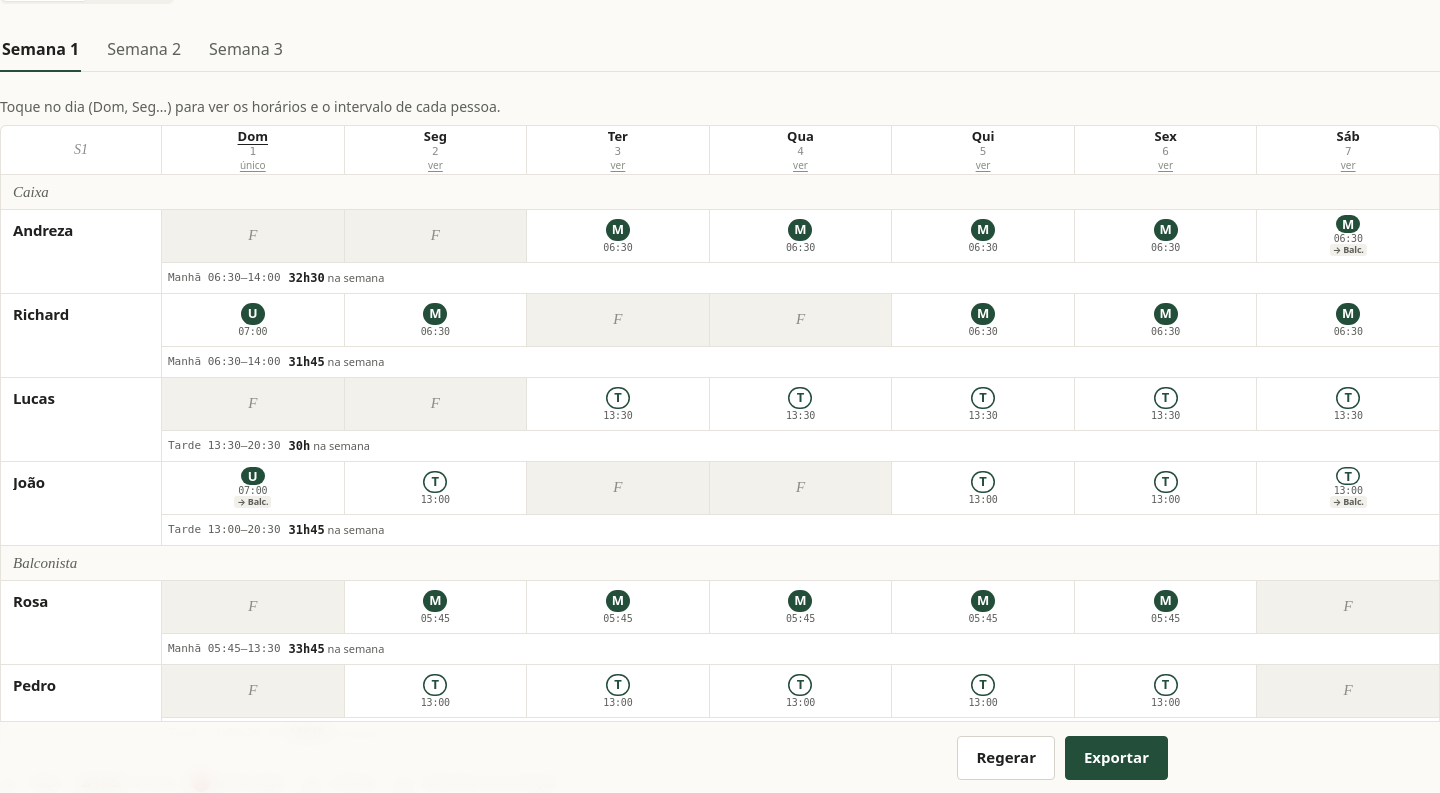
Test: segunda área na escala (dados reais do exemplo) › quem cobre balconista mostra "→ Balc." na célula, "cobrindo Balconista" no aria-label e "Neste dia cobre" no painel
(page scrolled)
Click the button "U 07:00 → Balc.": {"x": 253, "y": 488} [162,462,344,514]
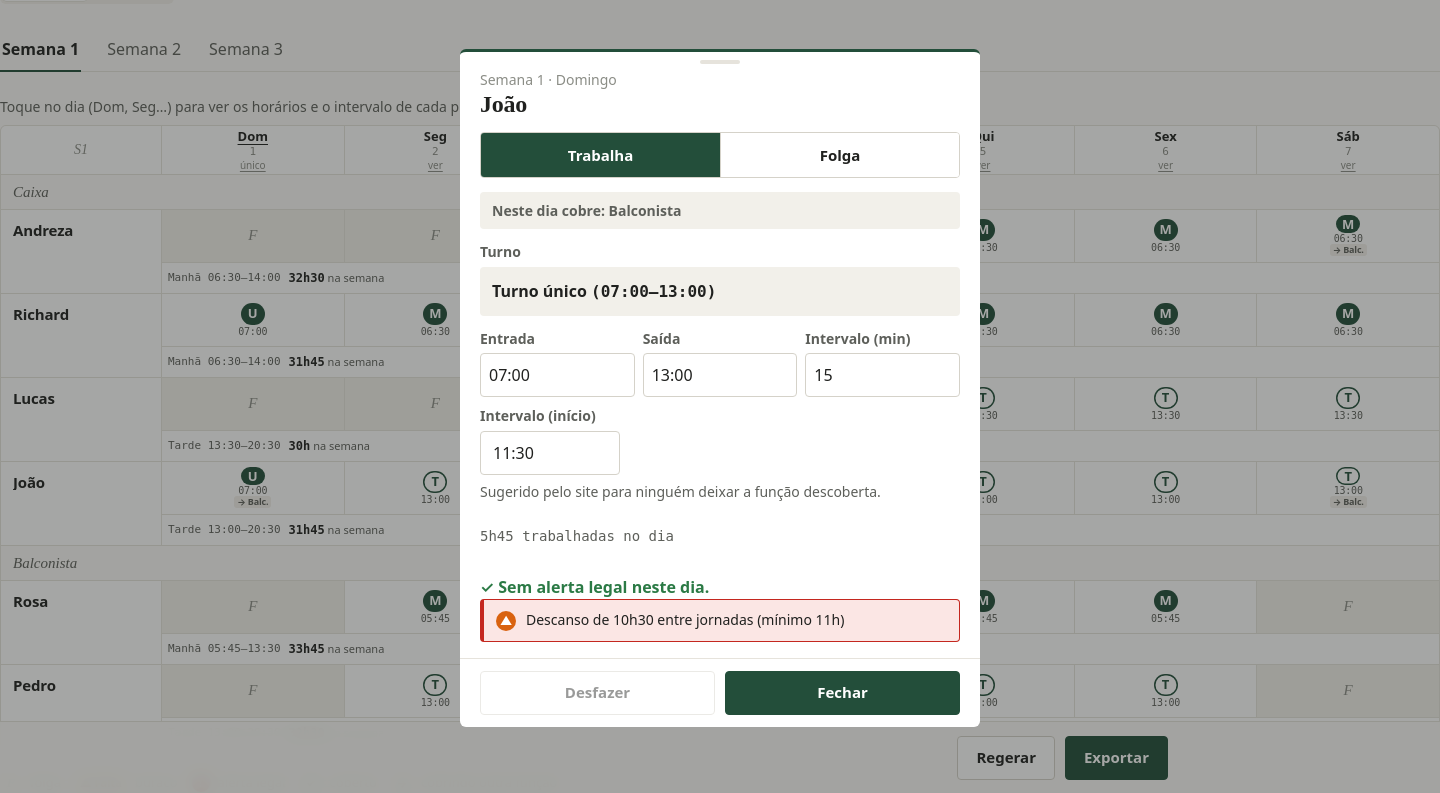
Expected: the text "Neste dia cobre: Balconista" is shown, [480,192,960,229]
